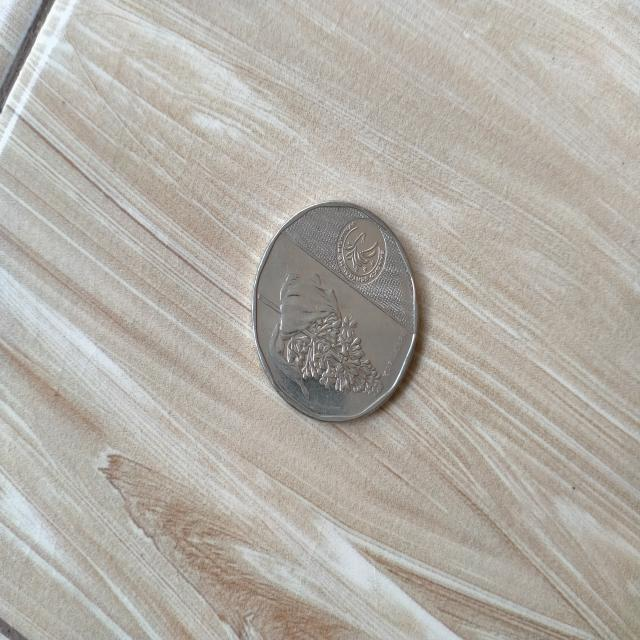10_New_Back: (254, 264, 390, 406)
